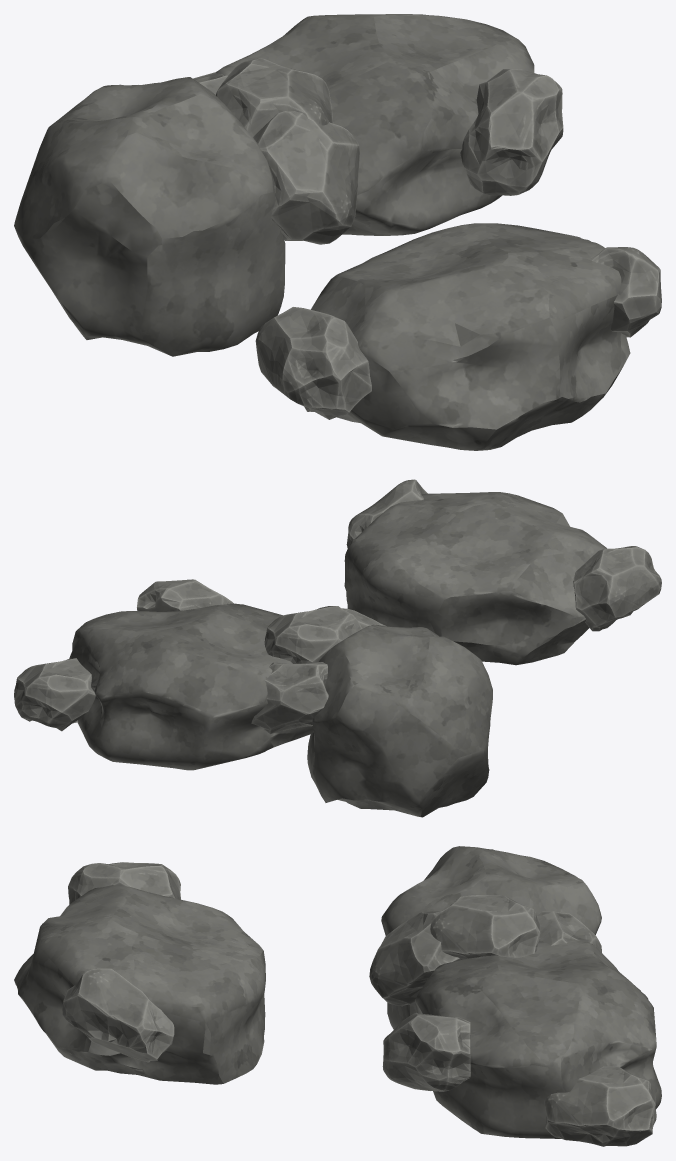
File: rocas.fbx
The picture shows the model from 3 angles, top to bottom: view 1: azimuth 30°, elevation 25°; view 2: azimuth 150°, elevation 25°; view 3: azimuth 270°, elevation 25°; orthographic projection. The views are drawn at different scales.
Parts seen in each view (by area): view 1: Gran_Piedra_Pablo_level1, Gran_Piedra3_Pablo_level1, Gran_Piedra2_Pablo_level1, Pequeña_Piedra3_Pablo.001_level1, Pequeña_Piedra2_Pablo.003_level1, Pequeña_Piedra2_Pablo.001_level1, Pequeña_Piedra3_Pablo.002_level1, Pequeña_Piedra_Pablo_level1; view 2: Gran_Piedra3_Pablo_level1, Gran_Piedra_Pablo_level1, Gran_Piedra2_Pablo_level1, Pequeña_Piedra2_Pablo.001_level1, Pequeña_Piedra3_Pablo_level1, Pequeña_Piedra2_Pablo.002_level1, Pequeña_Piedra3_Pablo.002_level1, Pequeña_Piedra2_Pablo.003_level1, Pequeña_Piedra_Pablo_level1; view 3: Gran_Piedra3_Pablo_level1, Gran_Piedra2_Pablo_level1, Gran_Piedra_Pablo_level1, Pequeña_Piedra3_Pablo_level1, Pequeña_Piedra_Pablo_level1, Pequeña_Piedra2_Pablo.003_level1, Pequeña_Piedra3_Pablo.002_level1, Pequeña_Piedra3_Pablo.001_level1, Pequeña_Piedra2_Pablo.001_level1, Pequeña_Piedra2_Pablo.002_level1.
Part boxes in pixels (box(x1,y1,x2,y2)): Gran_Piedra_Pablo_level1: box(14, 77, 285, 356); Gran_Piedra3_Pablo_level1: box(311, 223, 630, 450); Gran_Piedra2_Pablo_level1: box(215, 14, 534, 235); Pequeña_Piedra3_Pablo.001_level1: box(253, 111, 359, 244); Pequeña_Piedra2_Pablo.003_level1: box(460, 69, 563, 195); Pequeña_Piedra2_Pablo.001_level1: box(255, 307, 371, 419); Pequeña_Piedra3_Pablo.002_level1: box(216, 58, 333, 136); Pequeña_Piedra_Pablo_level1: box(591, 247, 661, 337); Gran_Piedra3_Pablo_level1: box(344, 492, 607, 665); Gran_Piedra_Pablo_level1: box(307, 624, 492, 817); Gran_Piedra2_Pablo_level1: box(69, 603, 313, 770); Pequeña_Piedra2_Pablo.001_level1: box(573, 546, 661, 631); Pequeña_Piedra3_Pablo_level1: box(14, 658, 95, 731); Pequeña_Piedra2_Pablo.002_level1: box(251, 662, 328, 733); Pequeña_Piedra3_Pablo.002_level1: box(264, 606, 361, 663); Pequeña_Piedra2_Pablo.003_level1: box(137, 579, 233, 611); Pequeña_Piedra_Pablo_level1: box(346, 479, 427, 548); Gran_Piedra3_Pablo_level1: box(14, 885, 265, 1084); Gran_Piedra2_Pablo_level1: box(414, 940, 661, 1138); Gran_Piedra_Pablo_level1: box(381, 846, 601, 1029); Pequeña_Piedra3_Pablo_level1: box(544, 1066, 656, 1146); Pequeña_Piedra_Pablo_level1: box(62, 968, 174, 1062); Pequeña_Piedra2_Pablo.003_level1: box(382, 1013, 470, 1091); Pequeña_Piedra3_Pablo.002_level1: box(430, 895, 540, 959); Pequeña_Piedra3_Pablo.001_level1: box(369, 910, 461, 1006); Pequeña_Piedra2_Pablo.001_level1: box(68, 862, 180, 904); Pequeña_Piedra2_Pablo.002_level1: box(536, 911, 601, 952).
Bounding box in the file's own units: 3768 × 1327 × 4608.
